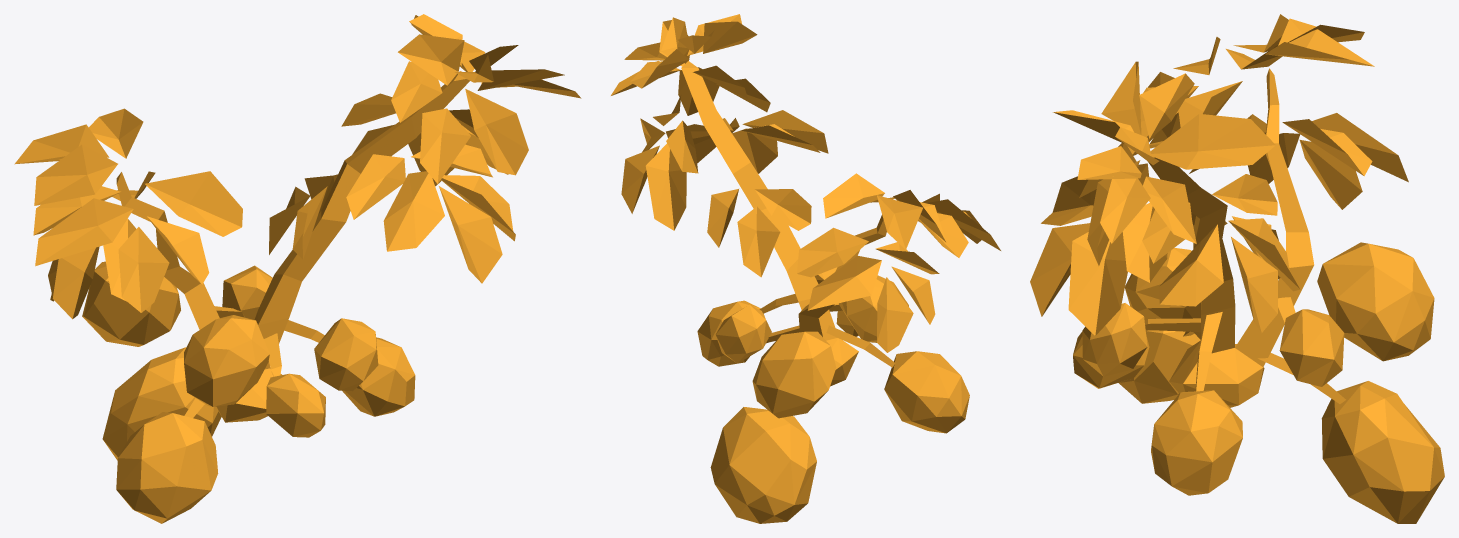
File: SM_Potato_Plant_Ripe_A.fbx
3 views of the same model, side by side, from view 1: azimuth 30°, elevation 25°; view 2: azimuth 150°, elevation 25°; view 3: azimuth 270°, elevation 25° (orthographic). The views are drawn at different scales.
Visible parts, largest first — view 1: potato-plant-ripe-a; view 2: potato-plant-ripe-a; view 3: potato-plant-ripe-a.
Part boxes in pixels (left/top/right/bottom): potato-plant-ripe-a: left=14, top=14, right=581, bottom=523; potato-plant-ripe-a: left=611, top=14, right=1000, bottom=523; potato-plant-ripe-a: left=1030, top=14, right=1444, bottom=523.
Bounding box in the file's own units: 0.777 × 0.7143 × 0.5028.
